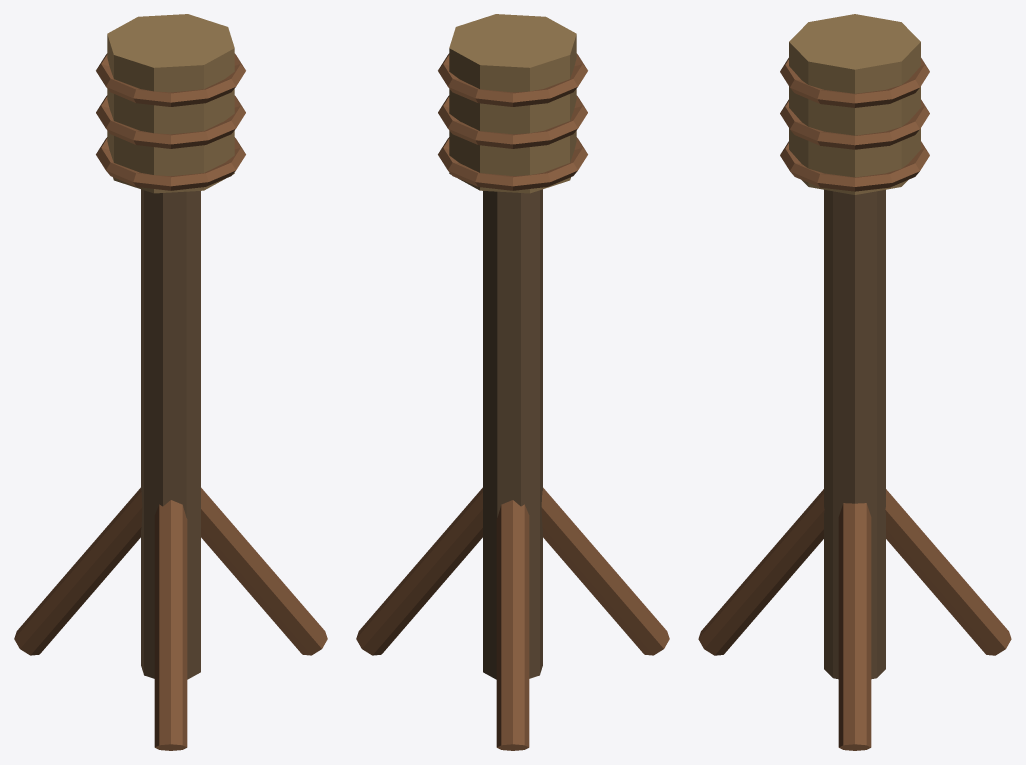
Rendered from torch.glb.
The picture shows the model from 3 angles, left to right: view 1: azimuth 30°, elevation 25°; view 2: azimuth 150°, elevation 25°; view 3: azimuth 270°, elevation 25°; orthographic projection.
Visible parts, largest first — view 1: Pied de torche, Chiffon huilé, Trépied.002, Trépied.001, Trépied, Fil de fer, Fil de fer.002, Fil de fer.001; view 2: Pied de torche, Chiffon huilé, Trépied.001, Trépied.002, Trépied, Fil de fer, Fil de fer.002, Fil de fer.001; view 3: Pied de torche, Chiffon huilé, Trépied, Trépied.001, Trépied.002, Fil de fer.002, Fil de fer, Fil de fer.001.
Part boxes in pixels (left/top/right/bottom): Pied de torche: left=141, top=189, right=200, bottom=679; Chiffon huilé: left=107, top=14, right=234, bottom=193; Trépied.002: left=154, top=500, right=187, bottom=750; Trépied.001: left=14, top=487, right=142, bottom=655; Trépied: left=201, top=487, right=327, bottom=655; Fil de fer: left=96, top=53, right=245, bottom=106; Fil de fer.002: left=96, top=95, right=245, bottom=148; Fil de fer.001: left=96, top=137, right=245, bottom=190; Pied de torche: left=483, top=189, right=542, bottom=679; Chiffon huilé: left=449, top=14, right=576, bottom=193; Trépied.001: left=496, top=500, right=529, bottom=750; Trépied.002: left=541, top=487, right=669, bottom=655; Trépied: left=356, top=487, right=482, bottom=655; Fil de fer: left=438, top=53, right=587, bottom=106; Fil de fer.002: left=438, top=95, right=587, bottom=148; Fil de fer.001: left=438, top=137, right=587, bottom=190; Pied de torche: left=824, top=189, right=885, bottom=679; Chiffon huilé: left=789, top=14, right=920, bottom=194; Trépied: left=838, top=503, right=871, bottom=750; Trépied.001: left=885, top=489, right=1011, bottom=655; Trépied.002: left=698, top=489, right=824, bottom=655; Fil de fer.002: left=780, top=99, right=929, bottom=149; Fil de fer: left=780, top=58, right=929, bottom=107; Fil de fer.001: left=780, top=141, right=929, bottom=191.
Bounding box in the file's own units: 0.4174 × 1.08 × 0.4752.
